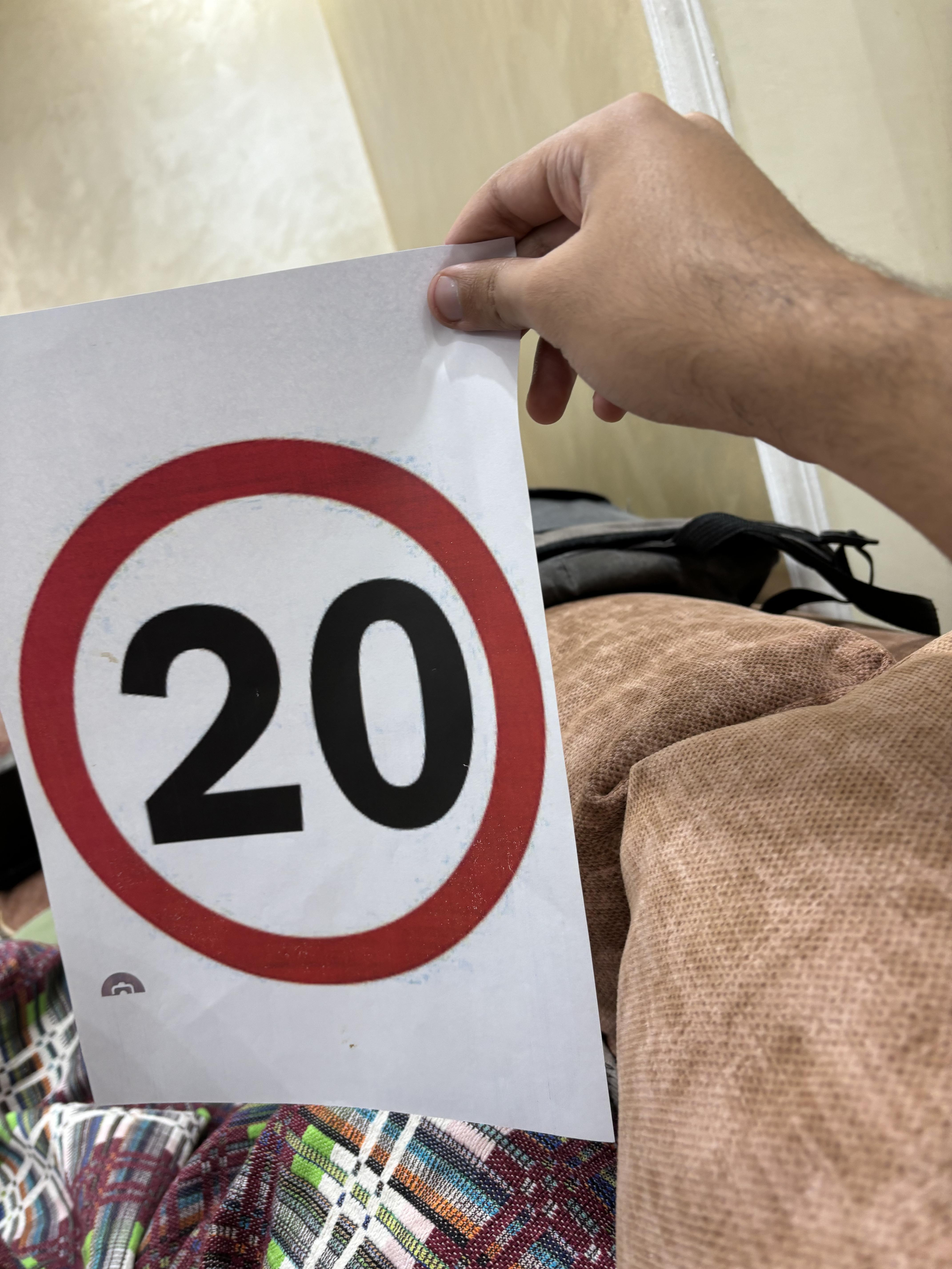20-Speed: (15, 436, 554, 993)
